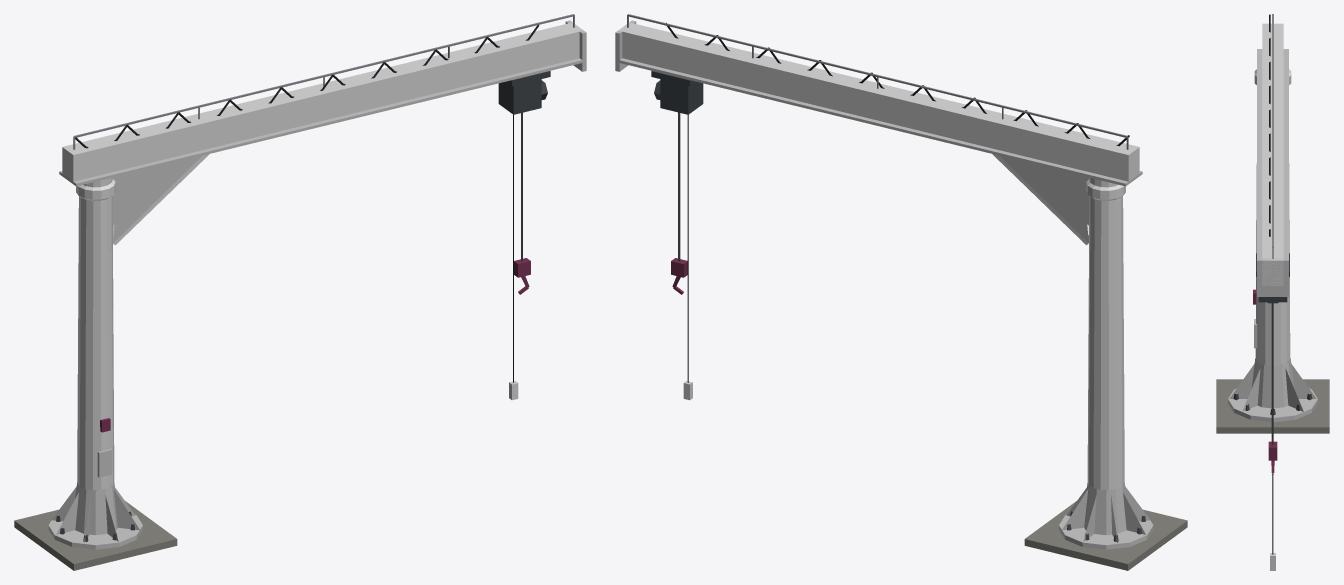
The model's file is crane.glb.
3 renders of one model, left to right at view 1: azimuth 30°, elevation 25°; view 2: azimuth 150°, elevation 25°; view 3: azimuth 270°, elevation 25°, orthographic. The views are drawn at different scales.
Visible parts, largest first — view 1: crane; view 2: crane; view 3: crane.
Boxes of the visible parts, box(x1,y1,x2,y2) form: crane: box(14, 14, 586, 570); crane: box(615, 14, 1187, 570); crane: box(1216, 14, 1329, 570).
Bounding box in the file's own units: 24.8 × 17.99 × 4.8.
